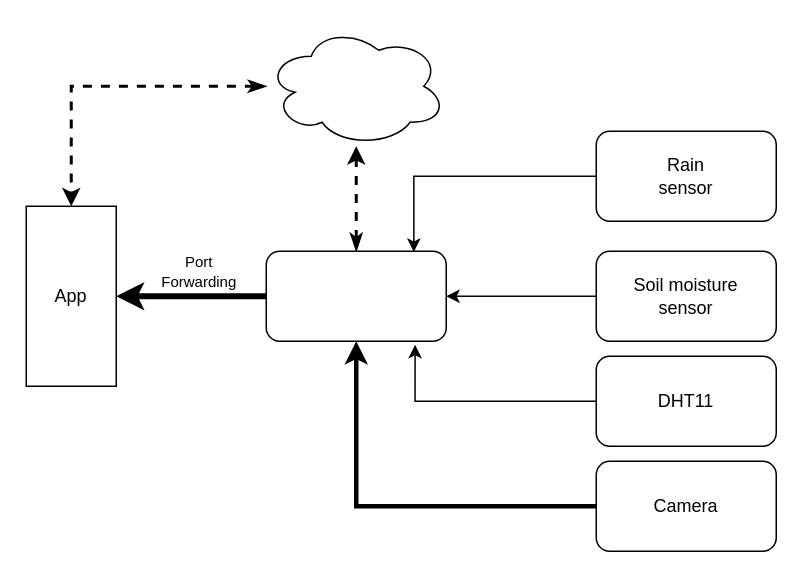
The diagram is 803 pixels wide and 578 high, and some of its shapes have lost their labels. The shapes that lost their labels are listed below. From the top down, each one's centre as x and y in pixels, then its label:
At pixel 355 85: "Firebase".
At pixel 355 295: "RPi".
